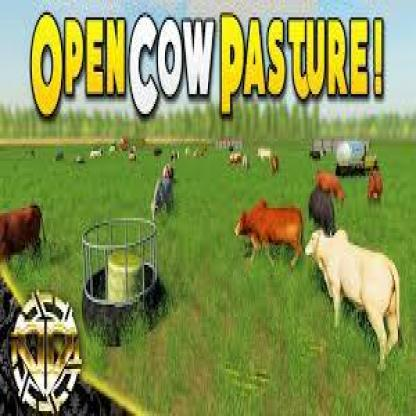cow: (304, 233, 399, 371), (233, 209, 306, 271), (0, 204, 43, 271), (309, 188, 336, 238), (150, 176, 172, 220), (315, 172, 346, 202), (367, 172, 382, 202), (258, 150, 272, 162), (272, 158, 279, 176)
